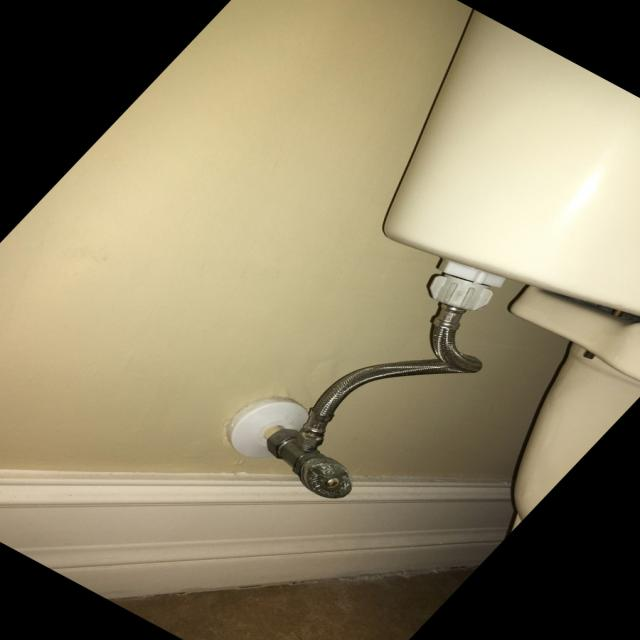good_coupler: (424, 274, 498, 312)
good_line: (299, 308, 482, 451)
good_valve: (265, 432, 355, 496)
